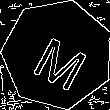M_NE: (25, 21, 90, 88)
